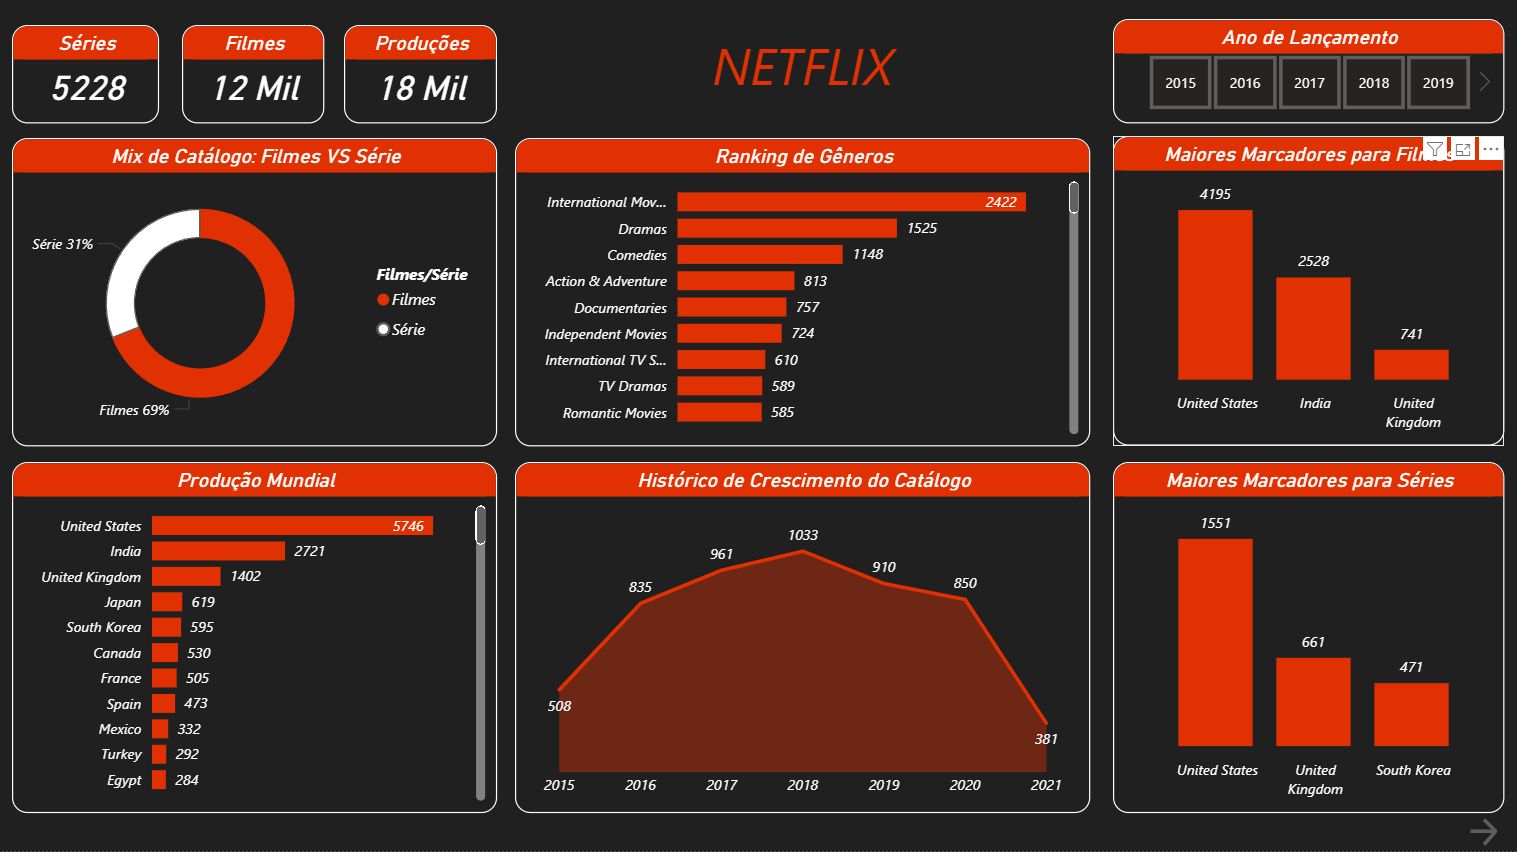

Layout of this report page (visuals, bound fields, positions):
{"tool":"powerbi","page":{"name":"Visão Geral","canvas":[1280,720],"ordinal":0},"visuals":[{"type":"donutChart","title":"Mix de Catálogo: Filmes VS Série","fields":{"Category":["Netflix Dados.Filmes/Série"],"Y":["Netflix Dados.TotalProducao"]},"box":[9.9,119.1,409.3,259.7],"z":0},{"type":"card","title":"Produções","fields":{"Values":["Netflix Dados.TotalProducao"]},"box":[290.1,23.3,129,83.3],"z":1000},{"type":"card","title":"Filmes","fields":{"Values":["Netflix Dados.TotalFilmes"]},"box":[153.1,23.3,120,83.3],"z":2000},{"type":"card","title":"Séries","fields":{"Values":["Netflix Dados.TotalSeries"]},"box":[9.9,23.3,124.5,83.3],"z":3000},{"type":"barChart","title":"Produção Mundial","fields":{"Y":["CountNonNull(Netflix Dados.Titulo)"],"Category":["Netflix Dados.Paises"]},"box":[9.9,392.2,409.3,295.5],"z":4000},{"type":"areaChart","title":"Histórico de Crescimento do Catálogo","fields":{"Category":["Netflix Dados.Ano de Lançamento"],"Y":["Count(Netflix Dados.Titulo)"]},"box":[434.3,392.2,485.4,295.5],"z":5000},{"type":"clusteredBarChart","title":"Ranking de Gêneros","fields":{"Category":["Netflix Dados.Categoria"],"Y":["Netflix Dados.TotalProducao"]},"box":[434.3,119.1,485.4,259.7],"z":6000},{"type":"columnChart","title":"Maiores Marcadores para Filmes","fields":{"Category":["Netflix Dados.Paises"],"Y":["Netflix Dados.TotalFilmes"]},"box":[938.5,117.3,329.6,261.5],"z":7000},{"type":"columnChart","title":"Maiores Marcadores para Séries","fields":{"Category":["Netflix Dados.Paises"],"Y":["Netflix Dados.TotalSeries"]},"box":[938.5,392.2,329.6,295.5],"z":8000},{"type":"slicer","title":"Ano de Lançamento","fields":{"Values":["Netflix Dados.Ano de Lançamento"]},"box":[938.5,18.8,329.6,87.8],"z":9000},{"type":"textbox","box":[434.3,23.3,485.4,83.3],"z":10000},{"type":"actionButton","box":[1234,687.8,45.7,32.2],"z":11000}]}

Visuals, with their boxes in screenshot pixels (x1, y1, x2, y2), scaled from the page's 1280x720 canvas onto the 1517x852 screenshot:
"Mix de Catálogo: Filmes VS Série" donutChart: BBox(12, 141, 497, 448)
"Produções" card: BBox(344, 28, 497, 126)
"Filmes" card: BBox(181, 28, 324, 126)
"Séries" card: BBox(12, 28, 159, 126)
"Produção Mundial" barChart: BBox(12, 464, 497, 814)
"Histórico de Crescimento do Catálogo" areaChart: BBox(515, 464, 1090, 814)
"Ranking de Gêneros" clusteredBarChart: BBox(515, 141, 1090, 448)
"Maiores Marcadores para Filmes" columnChart: BBox(1112, 139, 1503, 448)
"Maiores Marcadores para Séries" columnChart: BBox(1112, 464, 1503, 814)
"Ano de Lançamento" slicer: BBox(1112, 22, 1503, 126)
textbox: BBox(515, 28, 1090, 126)
actionButton: BBox(1462, 814, 1516, 851)
